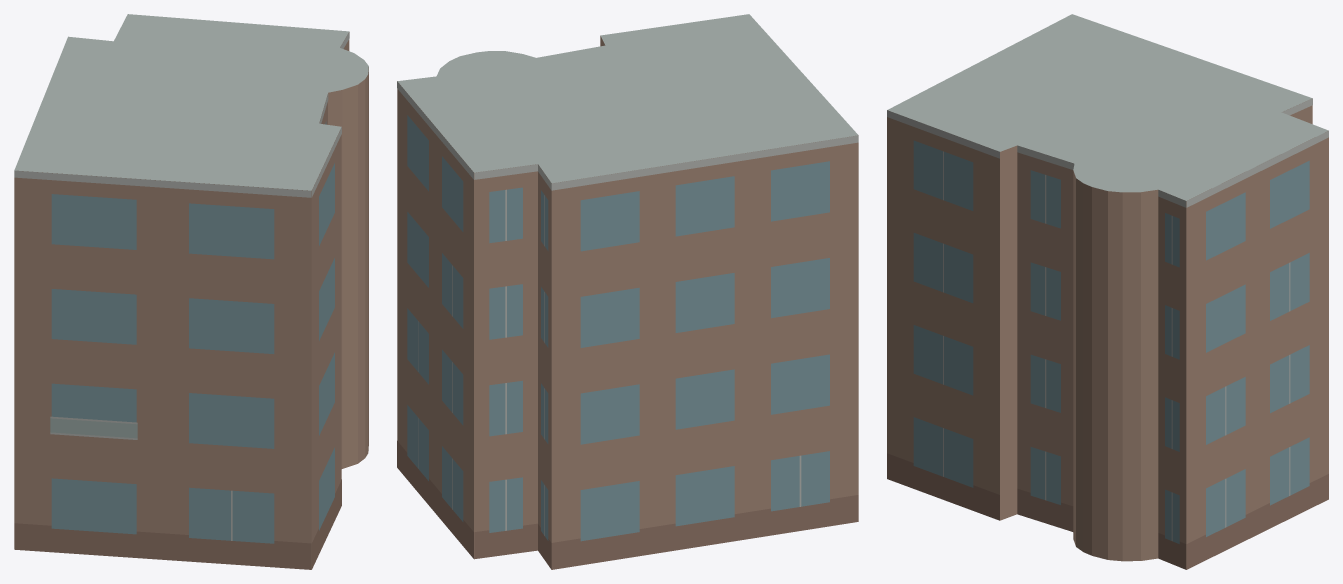
File: survey-upis-32781312.glb
3 views of the same model, side by side, from view 1: azimuth 30°, elevation 25°; view 2: azimuth 150°, elevation 25°; view 3: azimuth 270°, elevation 25° (orthographic). The views are drawn at different scales.
Visible parts, largest first — view 1: survey-upis-32781312.tmp; view 2: survey-upis-32781312.tmp; view 3: survey-upis-32781312.tmp.
Boxes of the visible parts, x1=… form: survey-upis-32781312.tmp: x1=14, y1=14, x2=368, y2=569; survey-upis-32781312.tmp: x1=397, y1=14, x2=858, y2=569; survey-upis-32781312.tmp: x1=887, y1=14, x2=1328, y2=569.
Bounding box in the file's own units: 14.14 × 13 × 14.12.
